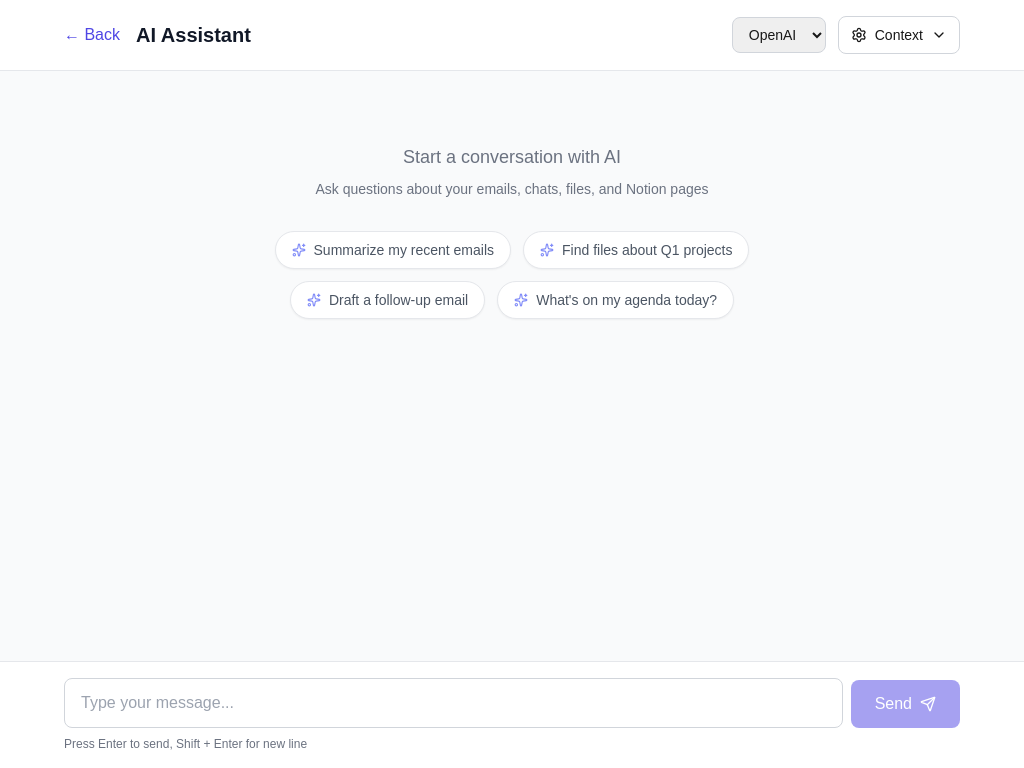
AIChatPage › toggles context settings panel accessibility attributes
Click the button with aria-label "Context settings" at (899, 35), box left=838, top=16, right=960, bottom=54
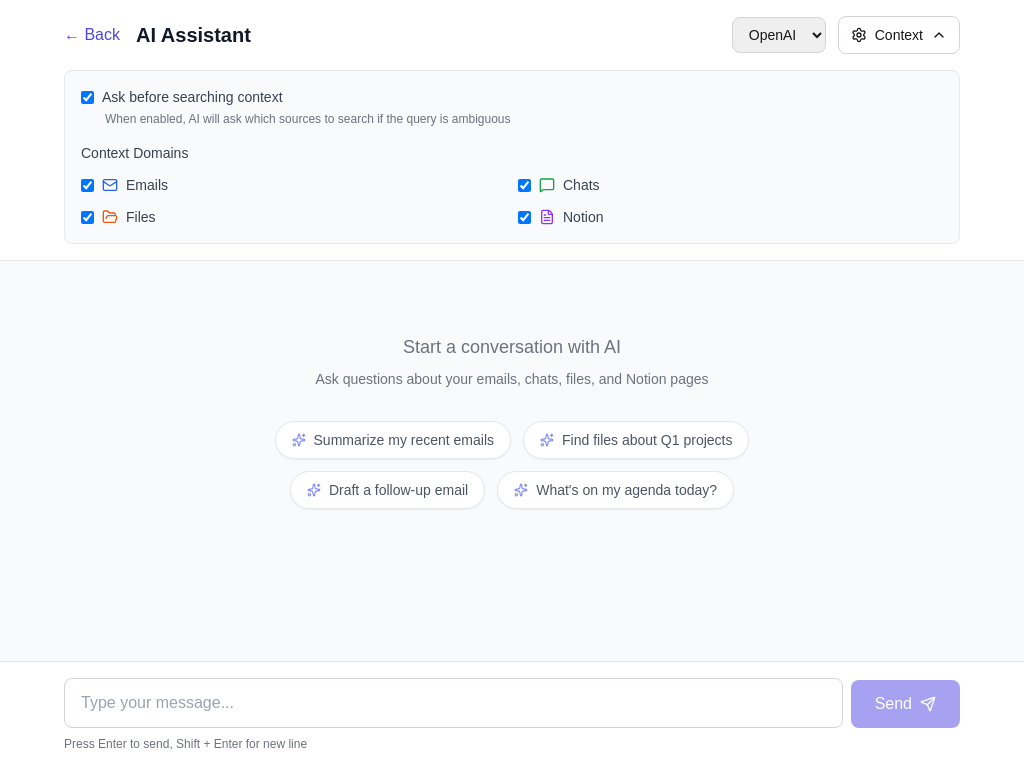
Expected: the button with aria-label "Context settings" is expanded, left=838, top=16, right=960, bottom=54
Expected: the checkbox labelled "Ask before searching context" is shown, left=81, top=90, right=94, bottom=104
